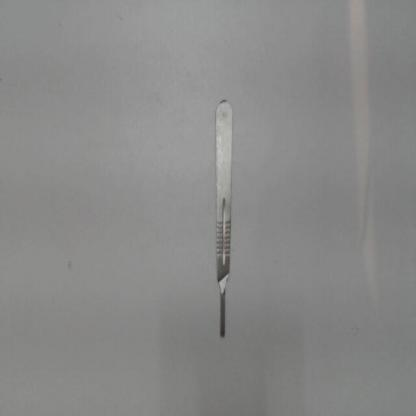No.4 BP Handle: (211, 89, 240, 347)
